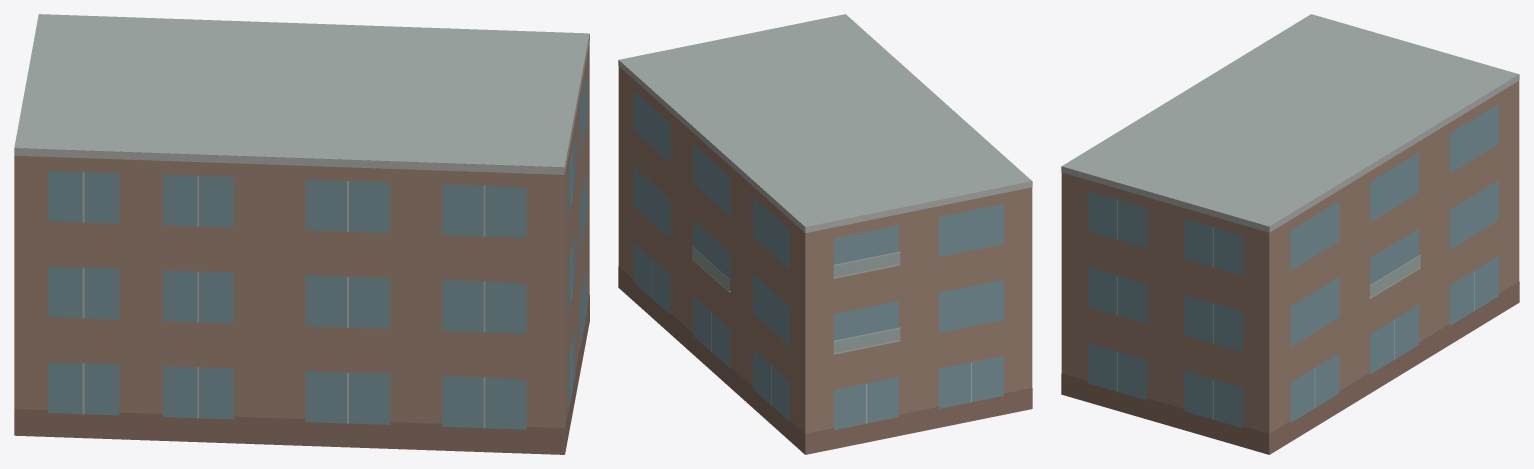
File: survey-upis-32706685.glb
3 views of the same model, side by side, from view 1: azimuth 30°, elevation 25°; view 2: azimuth 150°, elevation 25°; view 3: azimuth 270°, elevation 25° (orthographic). The views are drawn at different scales.
Parts seen in each view (by area): view 1: survey-upis-32706685.tmp; view 2: survey-upis-32706685.tmp; view 3: survey-upis-32706685.tmp.
Boxes of the visible parts, left/top/right/bottom form: survey-upis-32706685.tmp: left=14, top=14, right=589, bottom=454; survey-upis-32706685.tmp: left=618, top=14, right=1032, bottom=454; survey-upis-32706685.tmp: left=1061, top=14, right=1519, bottom=454.
Size of the model in its own units: 18.29 by 9.15 by 16.65.
